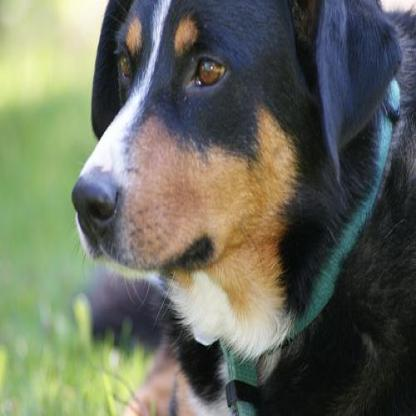Appenzeller: (69, 0, 414, 414)
